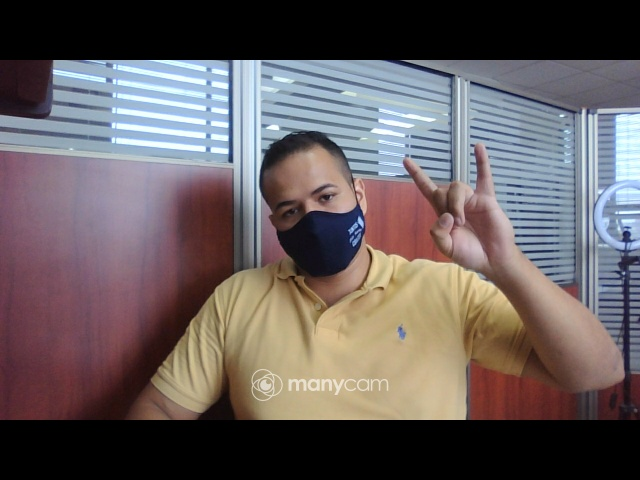I Love You: (396, 140, 524, 281)
